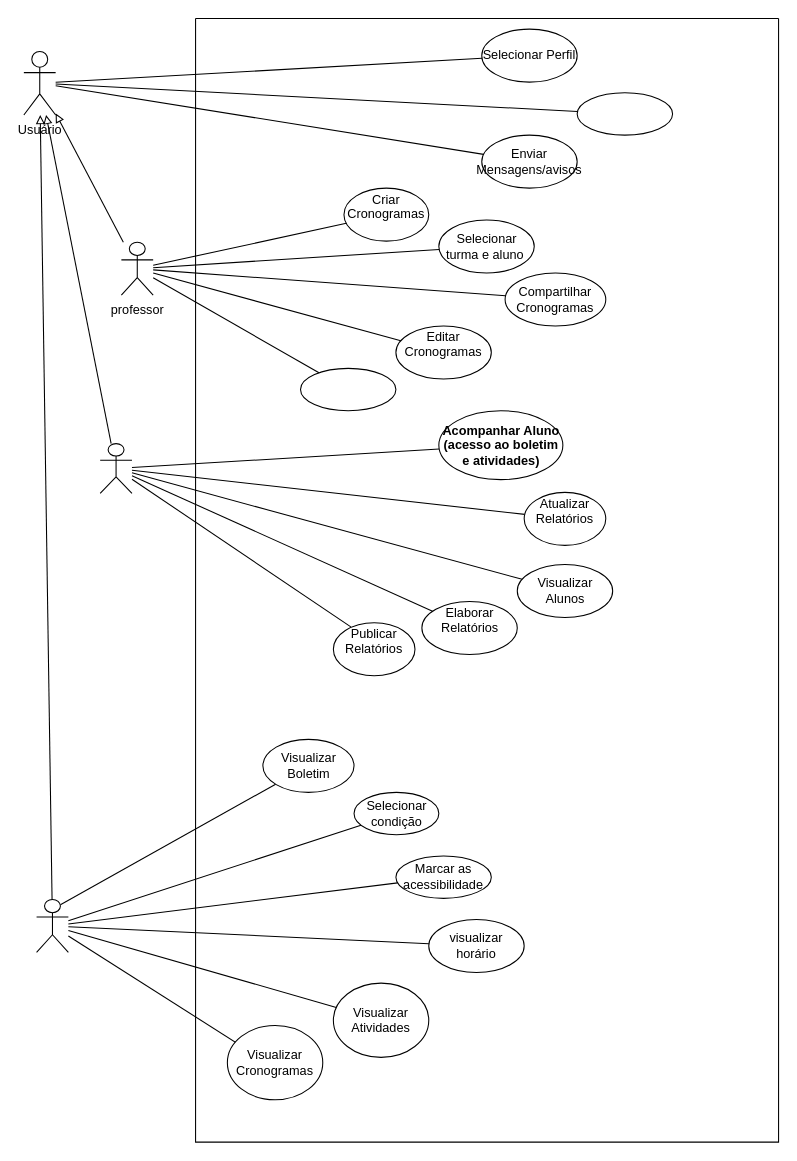
Image size: 797x1161. Some labels were removed from this diagram. The shapes that lost their labels are listed below. From the top down, each one's centre as x and y in pixels, then its label:
At [624,113]: "Realizar Login".
At [347,389]: "Enviar Avisos".
At [115,468]: "NAPNE".
At [52,925]: "aluno".
